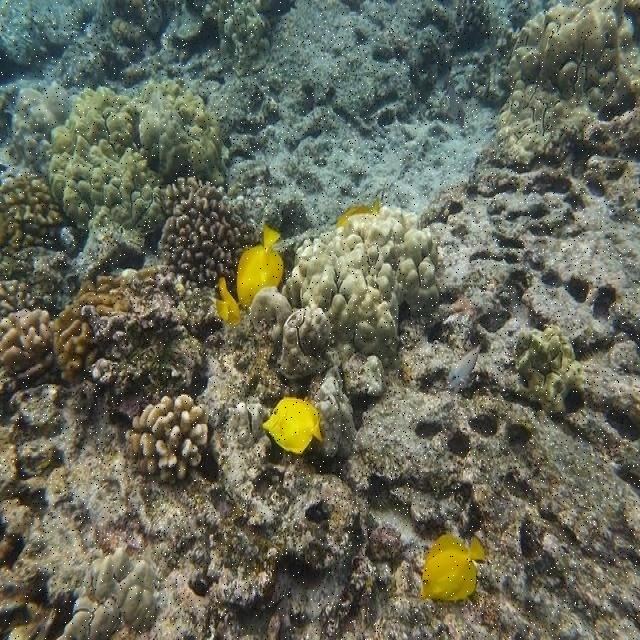fish: (415, 534, 489, 601), (239, 223, 283, 309), (259, 399, 325, 453), (443, 347, 476, 391)
reefs: (49, 79, 227, 232), (158, 180, 261, 301), (128, 391, 209, 479)
